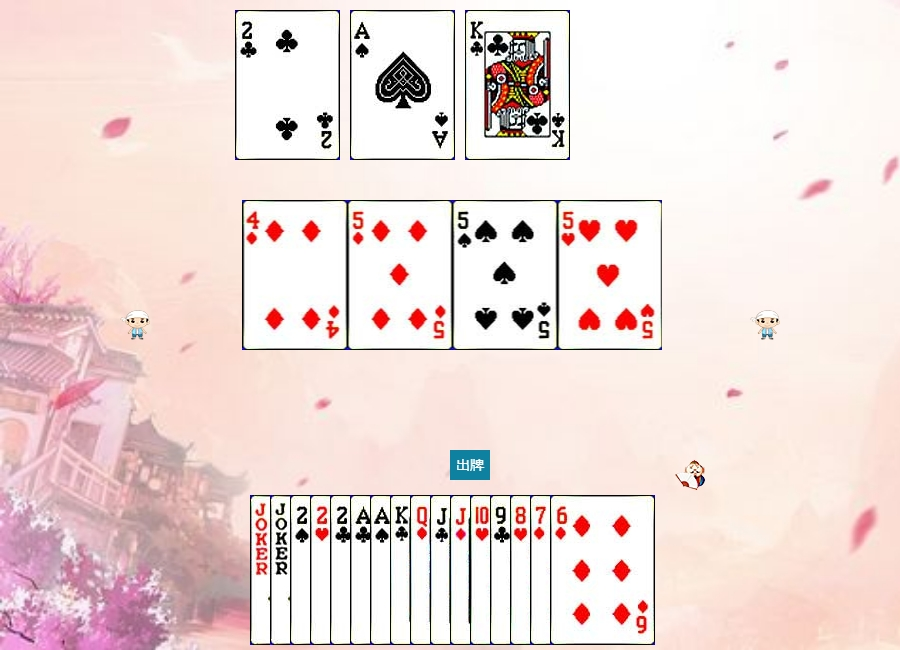10~3: (470, 495, 575, 645)
11~1: (450, 495, 555, 645)
11~2: (430, 495, 535, 645)
12~1: (410, 495, 515, 645)
13~2: (465, 10, 570, 160), (390, 495, 495, 645)
14~2: (350, 495, 455, 645)
14~4: (350, 10, 455, 160), (370, 495, 475, 645)
15~2: (235, 10, 340, 160), (330, 495, 435, 645)
15~3: (310, 495, 415, 645)
15~4: (290, 495, 395, 645)
17~3: (270, 495, 375, 645)
18~4: (250, 495, 355, 645)
4~1: (243, 200, 348, 350)
5~1: (348, 200, 453, 350)
5~3: (558, 200, 663, 350)
5~4: (453, 200, 558, 350)
6~1: (550, 495, 655, 645)
7~1: (530, 495, 635, 645)
8~3: (510, 495, 615, 645)
9~2: (490, 495, 595, 645)
